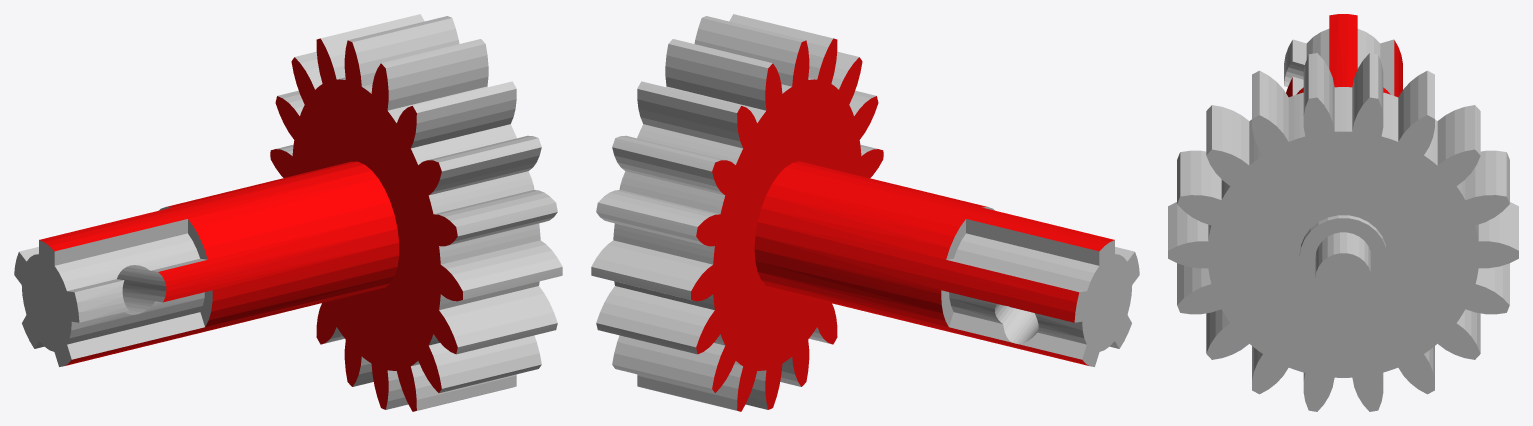
Rendered from Pinho_stp_15_34.obj.
3 renders of one model, left to right at view 1: azimuth 30°, elevation 25°; view 2: azimuth 150°, elevation 25°; view 3: azimuth 270°, elevation 25°, orthographic. The views are drawn at different scales.
Visible parts, largest first — view 1: Object1; view 2: Object1; view 3: Object1.
Part boxes in pixels (left/top/right/bottom): Object1: left=14, top=14, right=562, bottom=411; Object1: left=591, top=14, right=1139, bottom=411; Object1: left=1168, top=14, right=1518, bottom=411.
Bounding box in the file's own units: 71 × 49.44 × 50.
